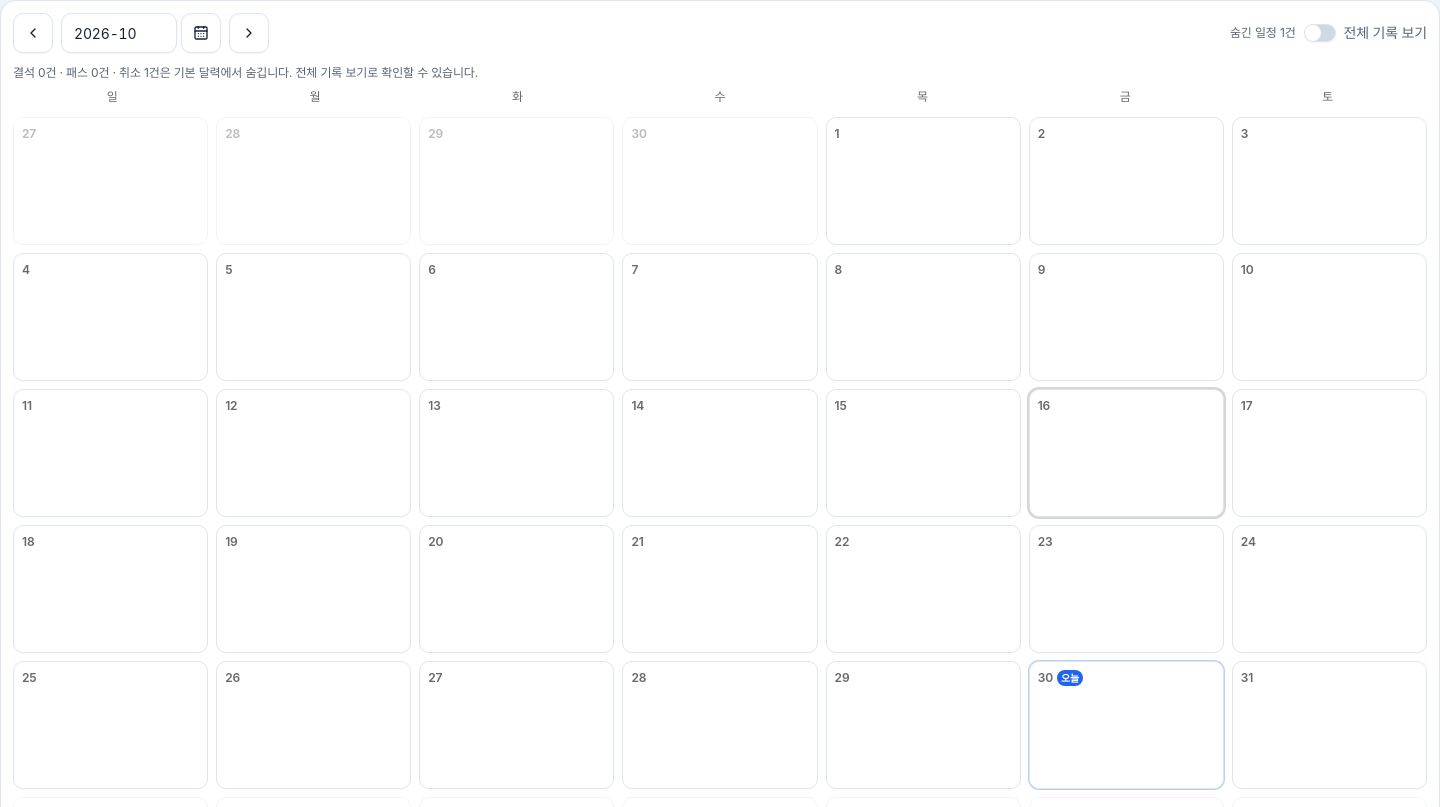
Test case: 월간 레슨 캘린더 › 취소된 개인레슨은 기본 숨김 후 기록 표시에서 확인한다
Expected: the text "취소 원생" is not shown
Click the switch named "전체 기록 보기".
click(1320, 33)  # box [1304,24,1336,42]
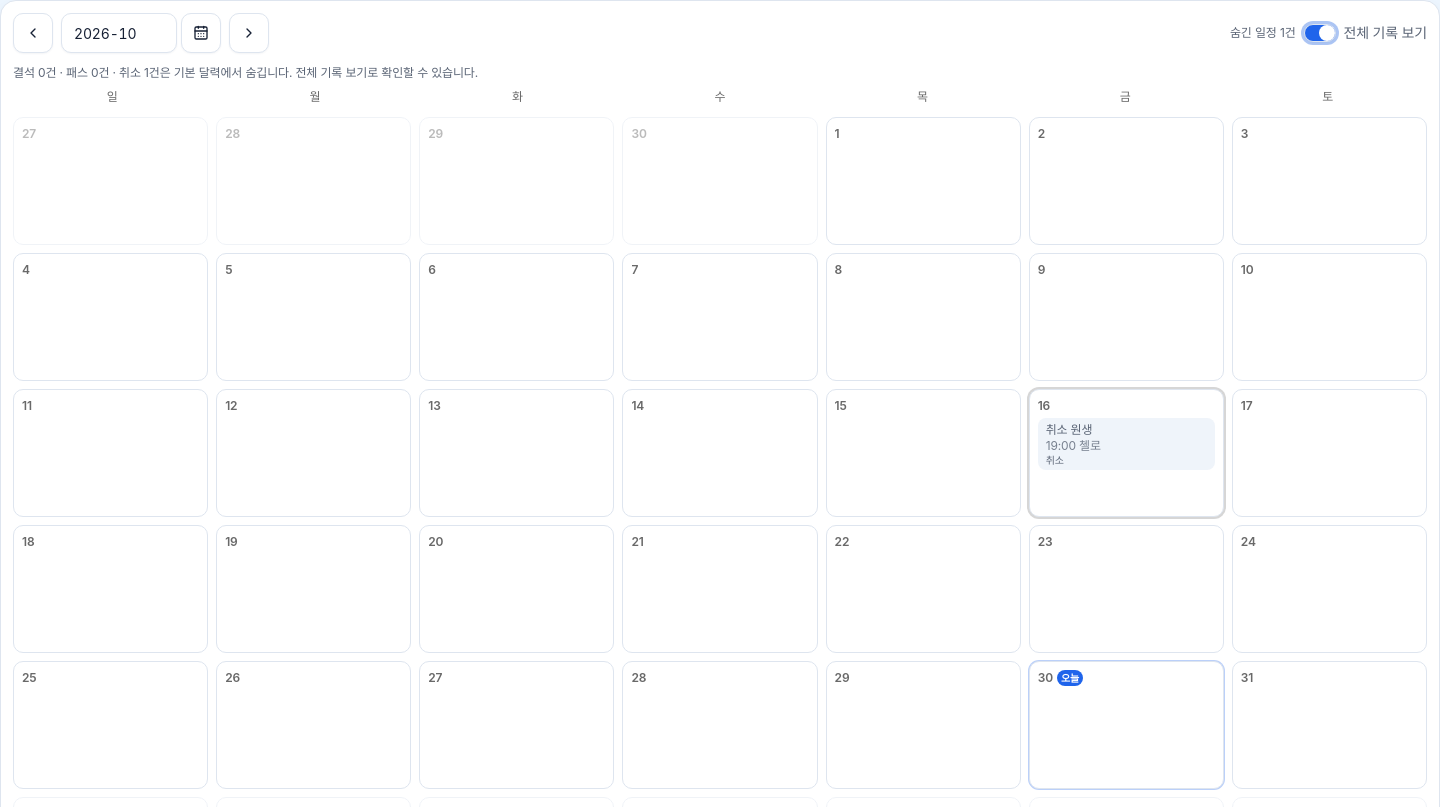
Expected: the text "취소 원생" is shown, [1046,422,1092,437]
Expected: the text "취소" is shown, [1046,454,1064,466]
